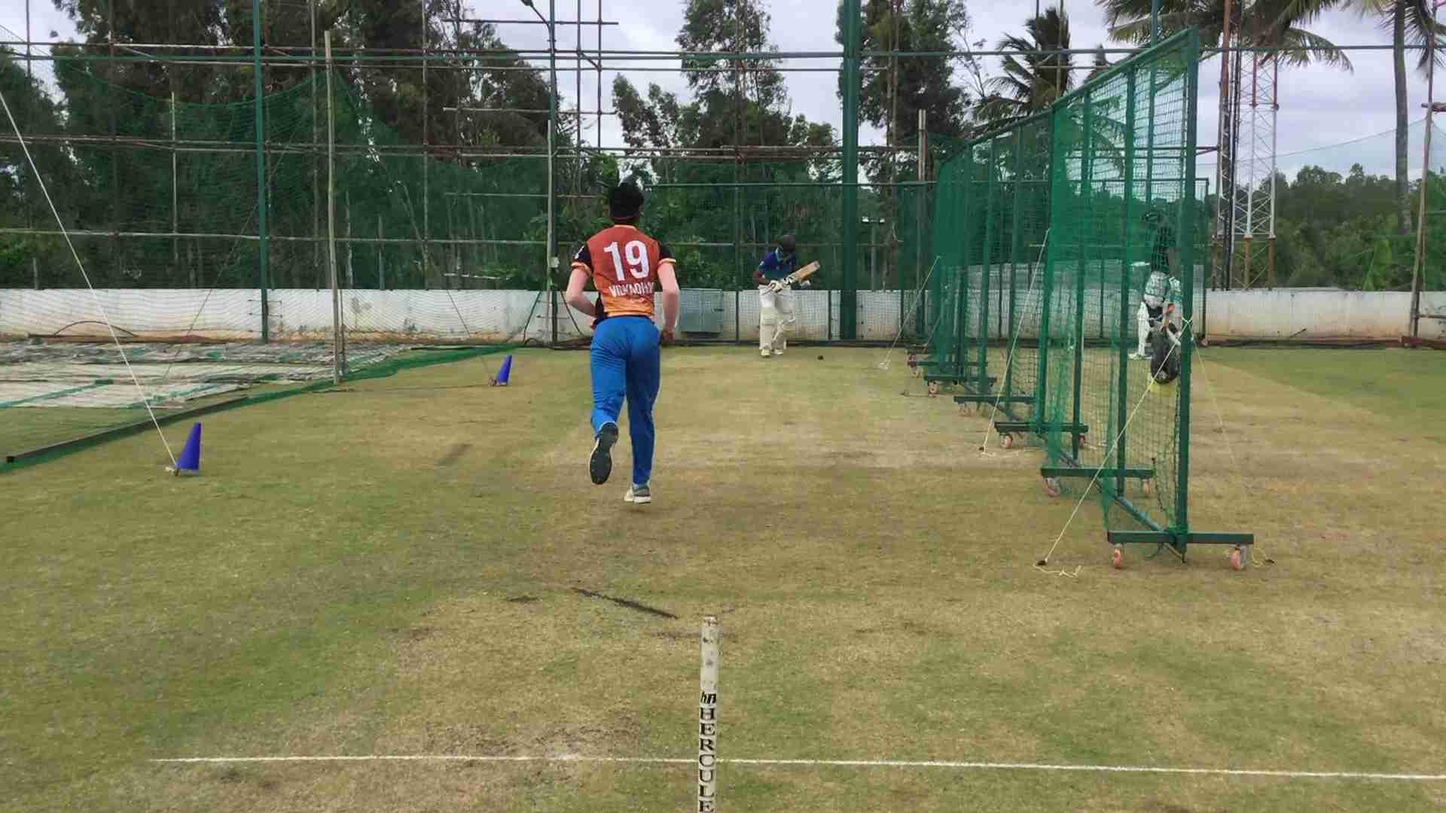batsman: (744, 227, 817, 370)
